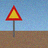sign: (5, 5, 22, 37)
